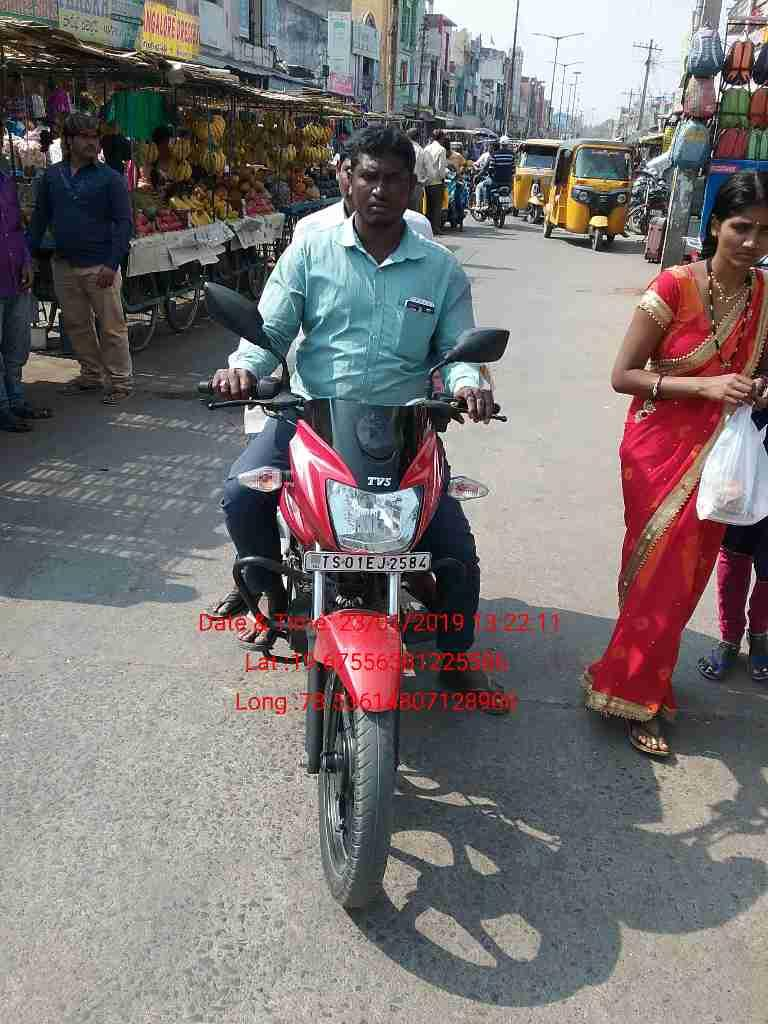plate: (296, 544, 441, 574)
